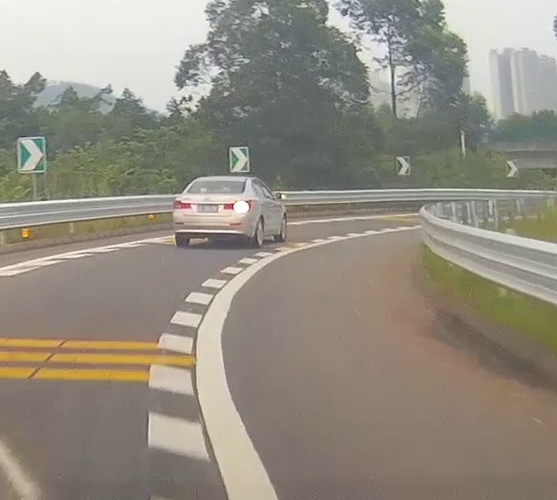L_light: (173, 200, 191, 209)
R_light: (224, 200, 251, 210)
T_light: (213, 181, 223, 184)
day-right: (173, 177, 252, 250)
